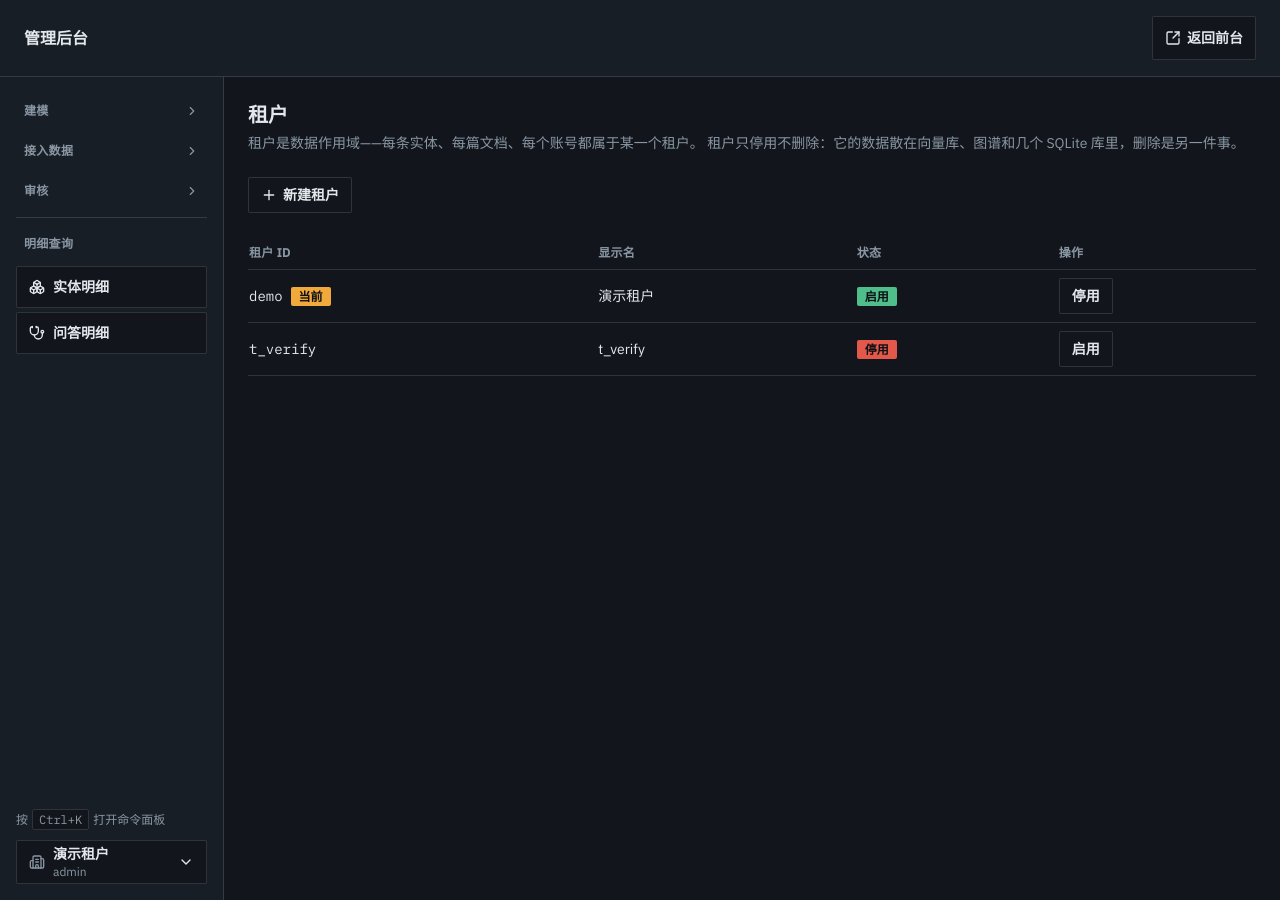
租户管理页 › 停用要二次确认
The image size is (1280, 900).
Expected: the header with test id "admin-topbar" is shown, [0, 0, 1279, 77]
Click the button with aria-label "停用 demo": (1086,296) [1059, 278, 1113, 314]
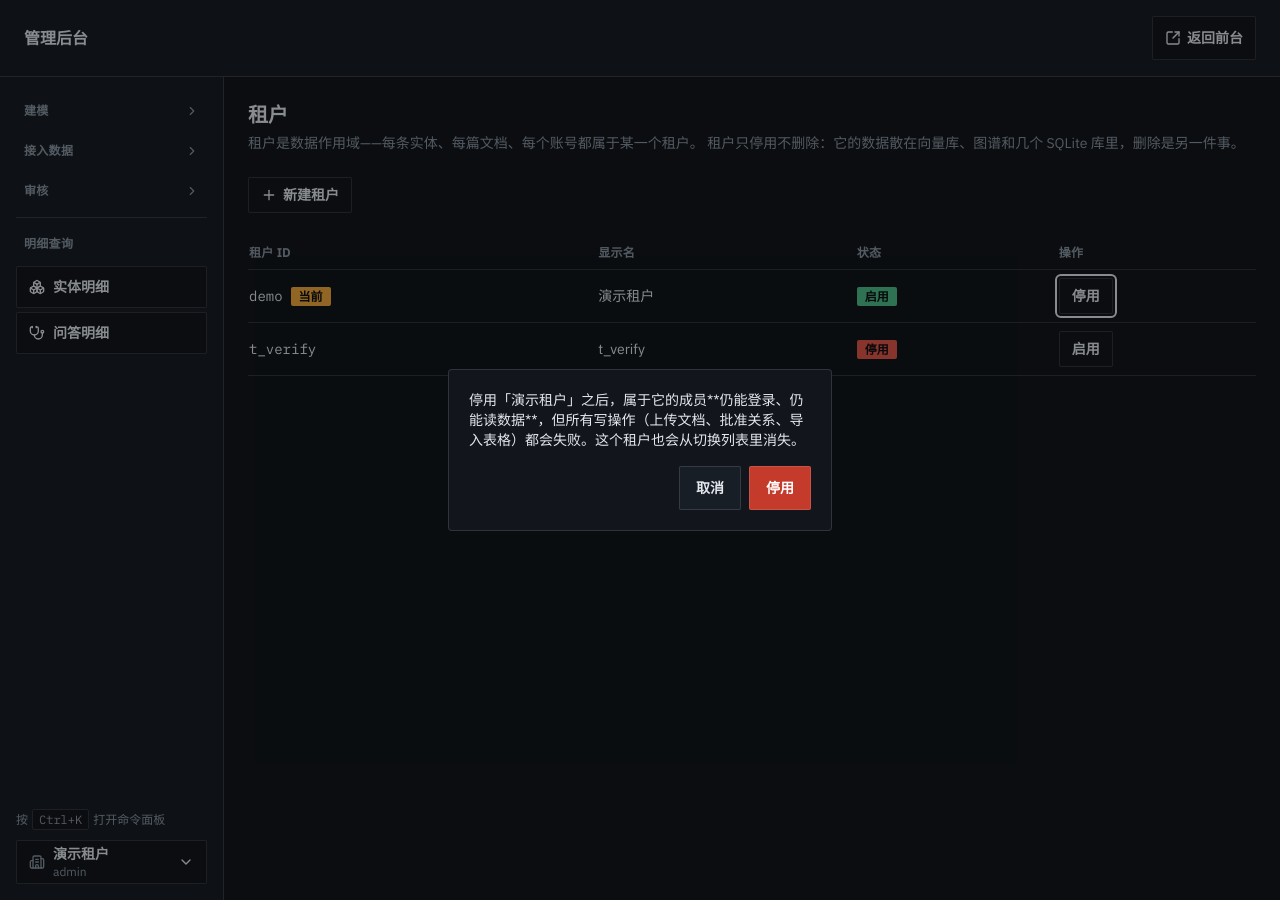
Now the dialog is shown, box [448, 369, 832, 531]
